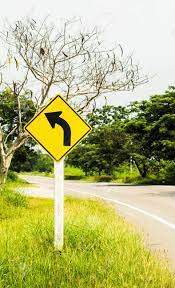left turn: (24, 94, 93, 162)
